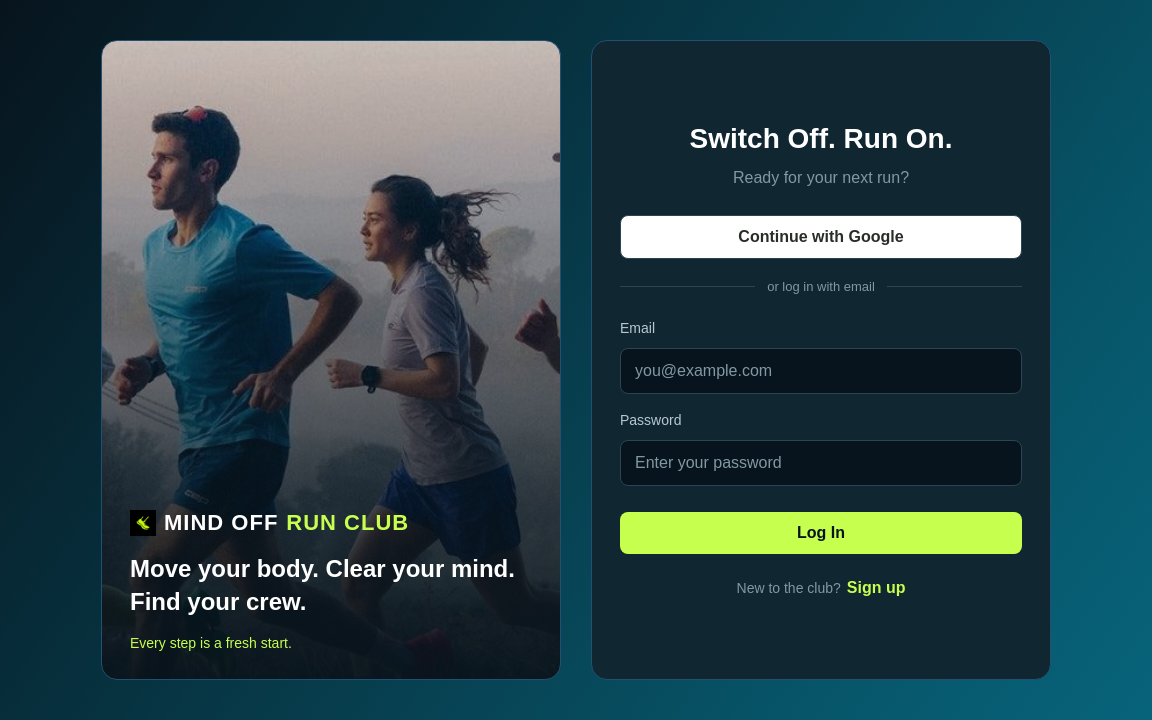
it: Login component › shows an error when Supabase login fails
Type "runner@example.com" into the field labelled "Email".
click(821, 371); type("runner@example.com")  # box [620, 348, 1022, 394]
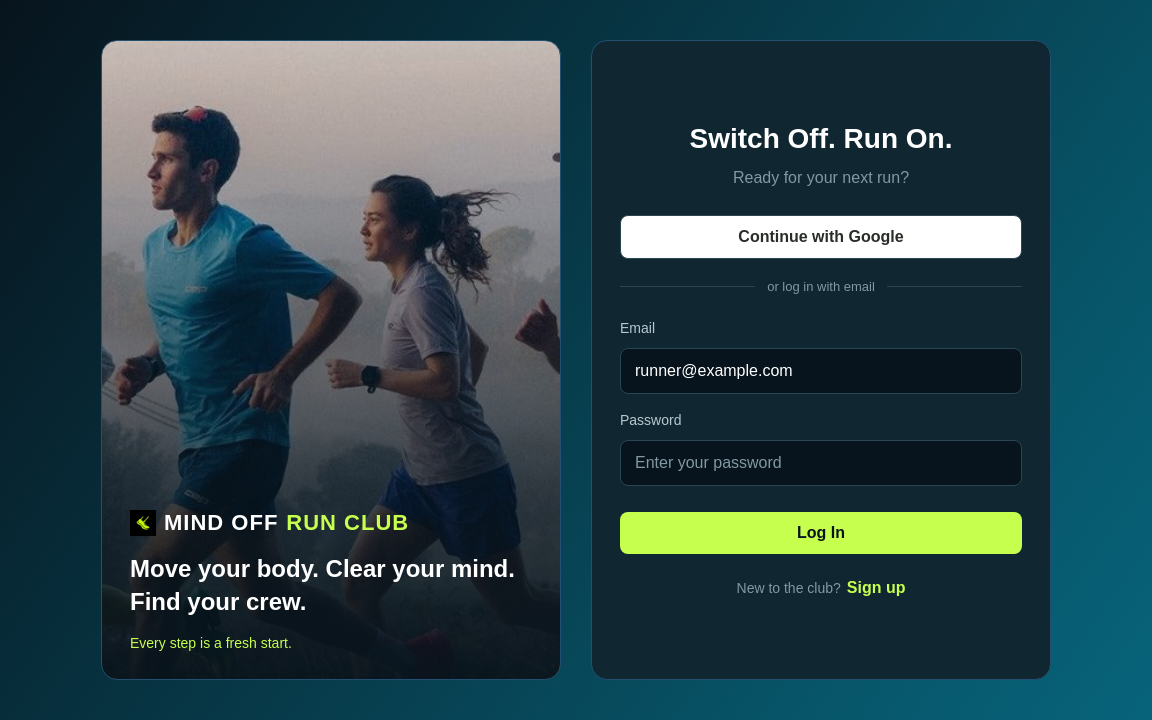
Type "wrong-password" into the password field labelled "Password".
click(821, 463); type("wrong-password")  # box [620, 440, 1022, 486]
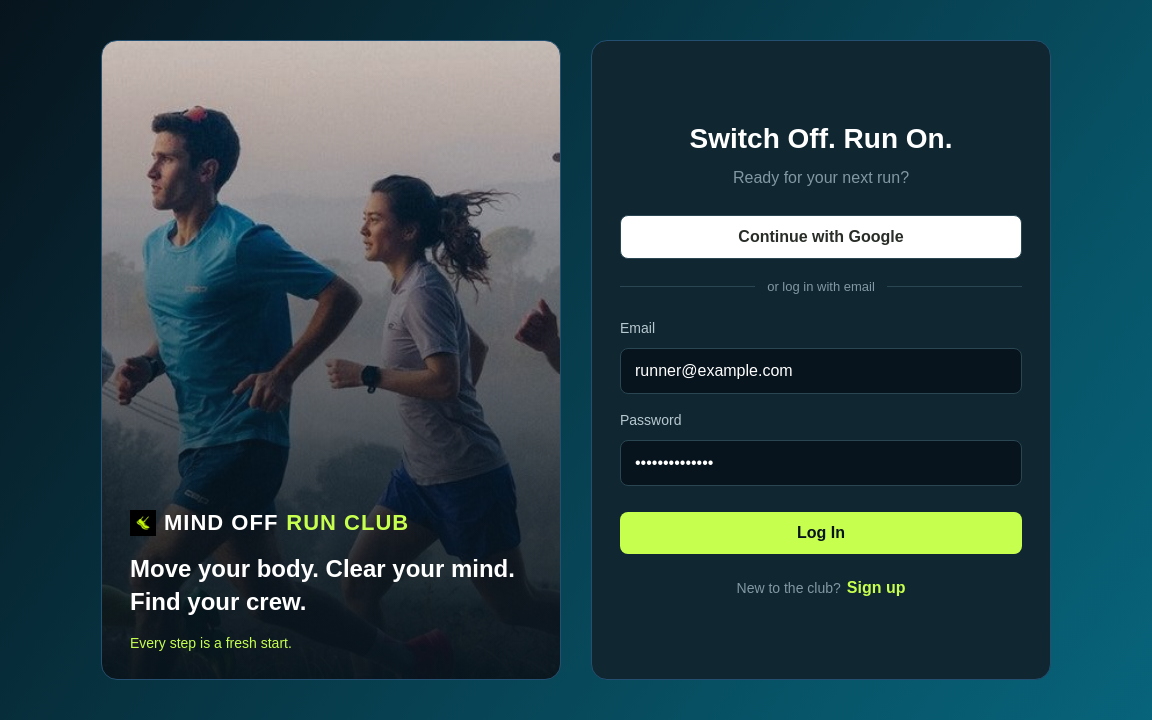
Click the button "Log In".
click(821, 533)  # box [620, 512, 1022, 554]
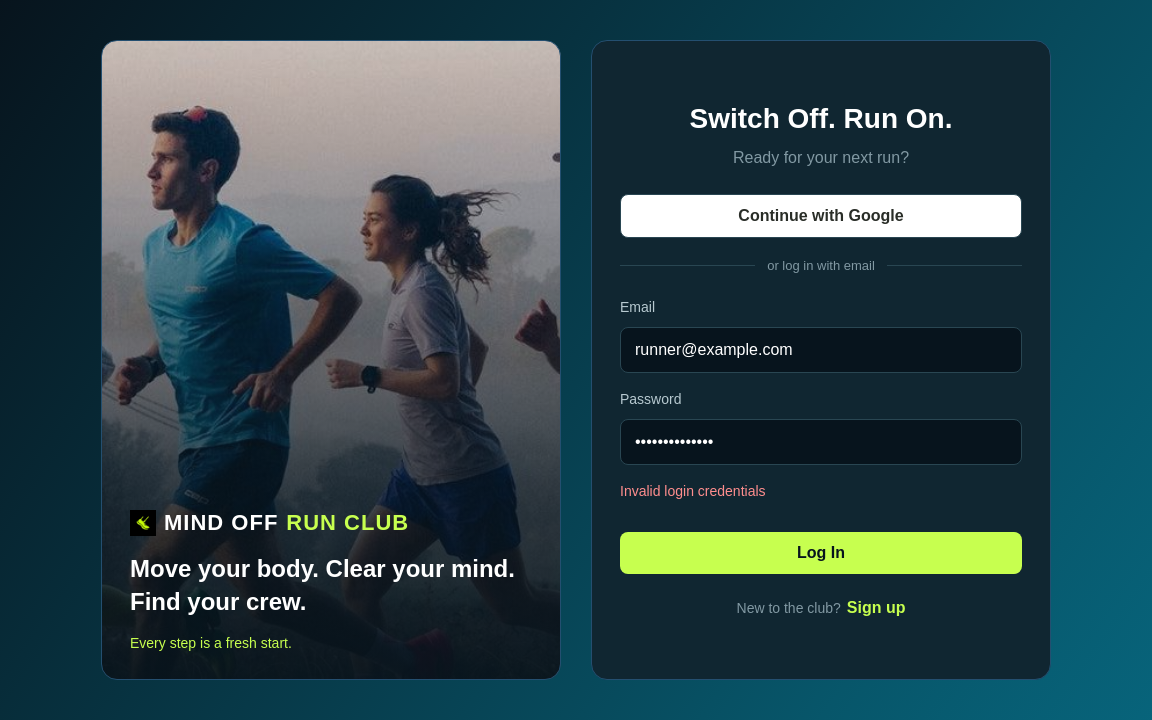
Now the message reads "Invalid login credentials", box [620, 483, 766, 499]
